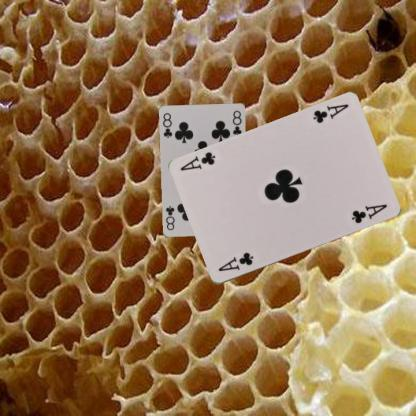8c: (160, 110, 174, 140)
Ac: (215, 250, 255, 273), (310, 101, 350, 124)
